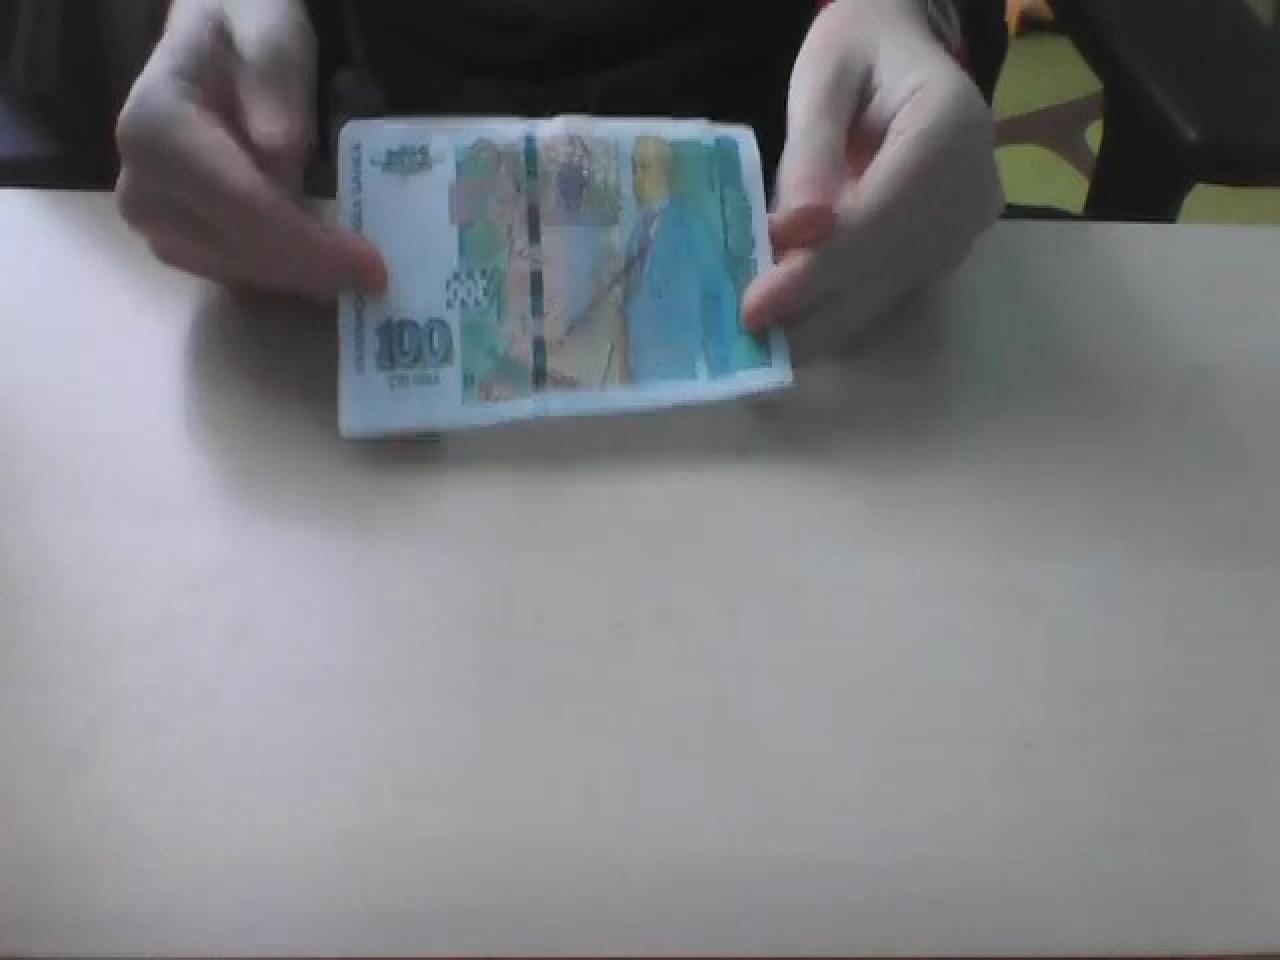100leva: (332, 109, 794, 440), (370, 312, 454, 373)
